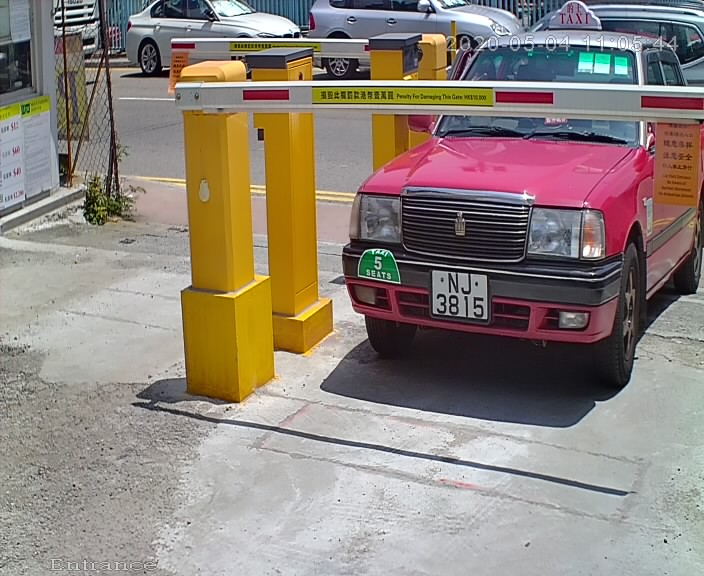taxi: (320, 26, 704, 413)
taxi_mark: (348, 236, 410, 296)
